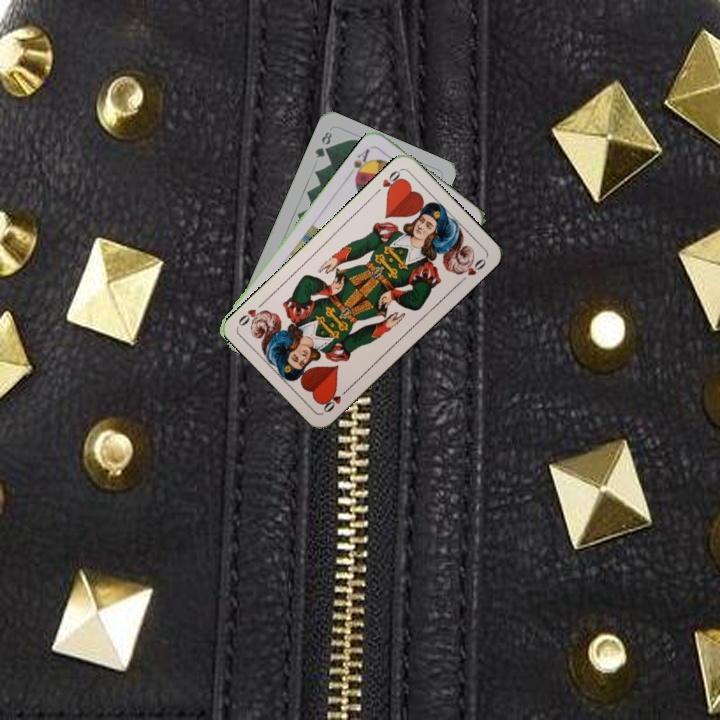G8: (311, 127, 335, 161)
HO: (371, 166, 405, 197), (319, 384, 352, 415)
SA: (345, 144, 374, 181)
